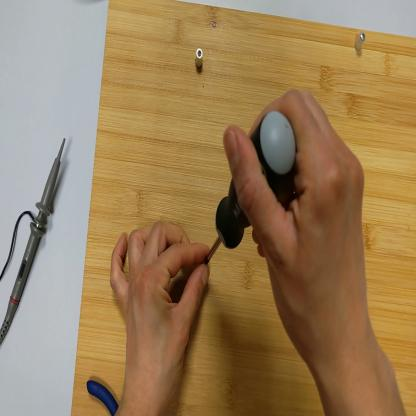hand: (225, 86, 374, 361), (110, 224, 211, 395)
oscilloscope probe tip: (2, 134, 65, 341)
pliers: (86, 382, 119, 413)
screwdriver-: (205, 111, 298, 264)
working area: (71, 2, 415, 415)
